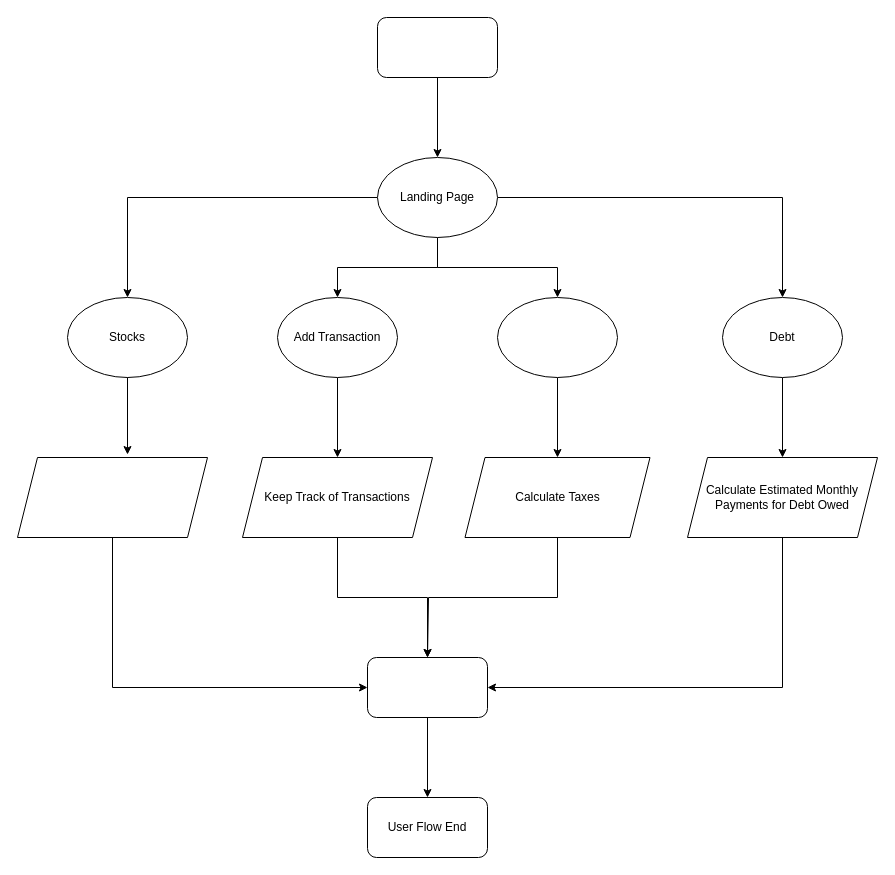
Image size: 895x875. Some labels were removed from this diagram. Each missing label, with the centre of its shape:
"Display Information on the UI" belongs at point (427, 687).
"Tax Calculator" belongs at point (557, 337).
"User" belongs at point (437, 47).
"View Stock Information and Visualizations" belongs at point (112, 497).
